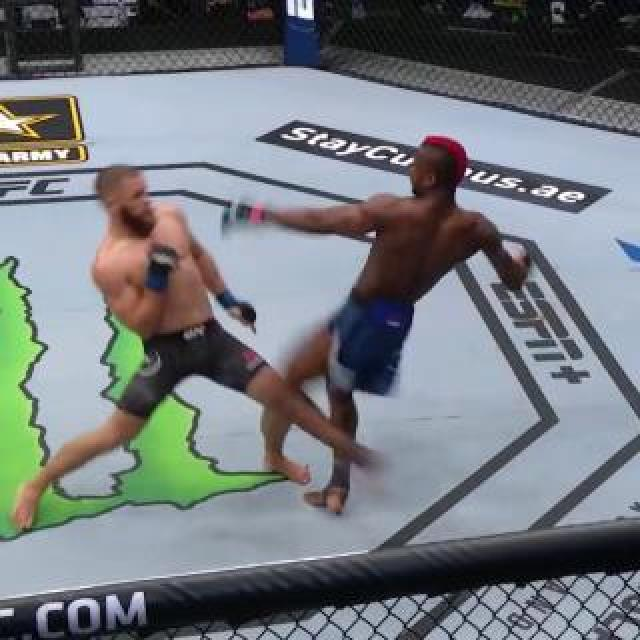fight: (37, 56, 515, 546)
